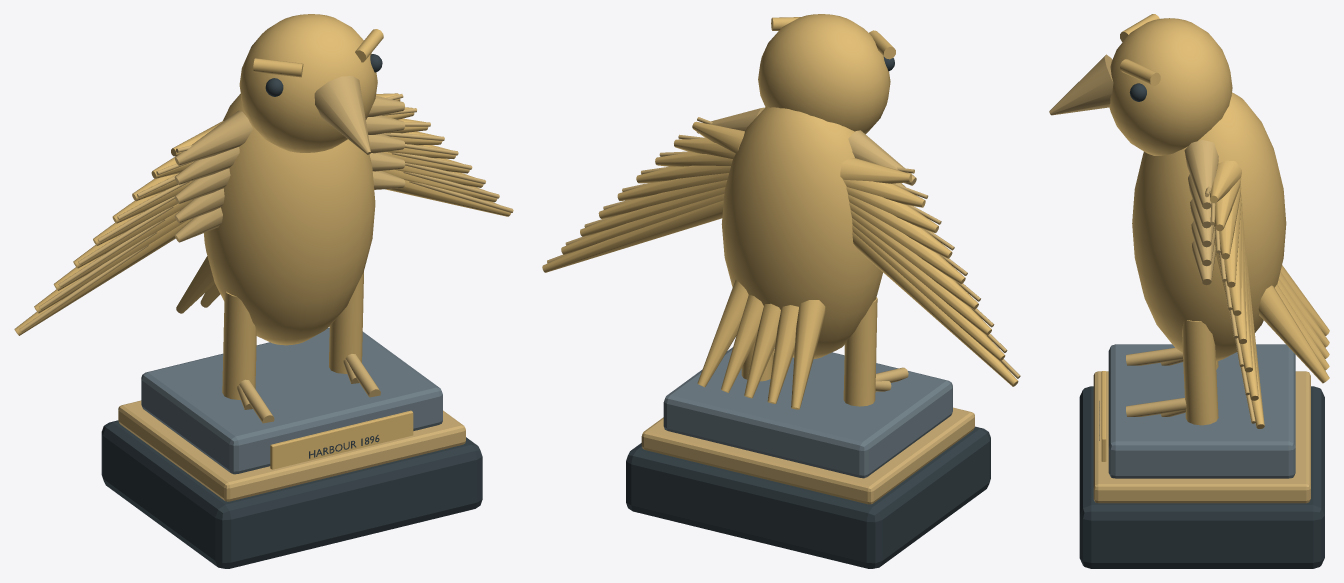
The model's file is loot_statue.glb.
The picture shows the model from 3 angles, left to right: view 1: azimuth 30°, elevation 25°; view 2: azimuth 150°, elevation 25°; view 3: azimuth 270°, elevation 25°; orthographic projection. The views are drawn at different scales.
Parts seen in each view (by area): view 1: loot_statue; view 2: loot_statue; view 3: loot_statue.
Part boxes in pixels (x1,y1,x2,y2): loot_statue: (14,14,513,568); loot_statue: (542,14,1020,568); loot_statue: (1049,14,1329,568).
Size of the model in its own units: 0.2417 by 0.229 by 0.1201.
